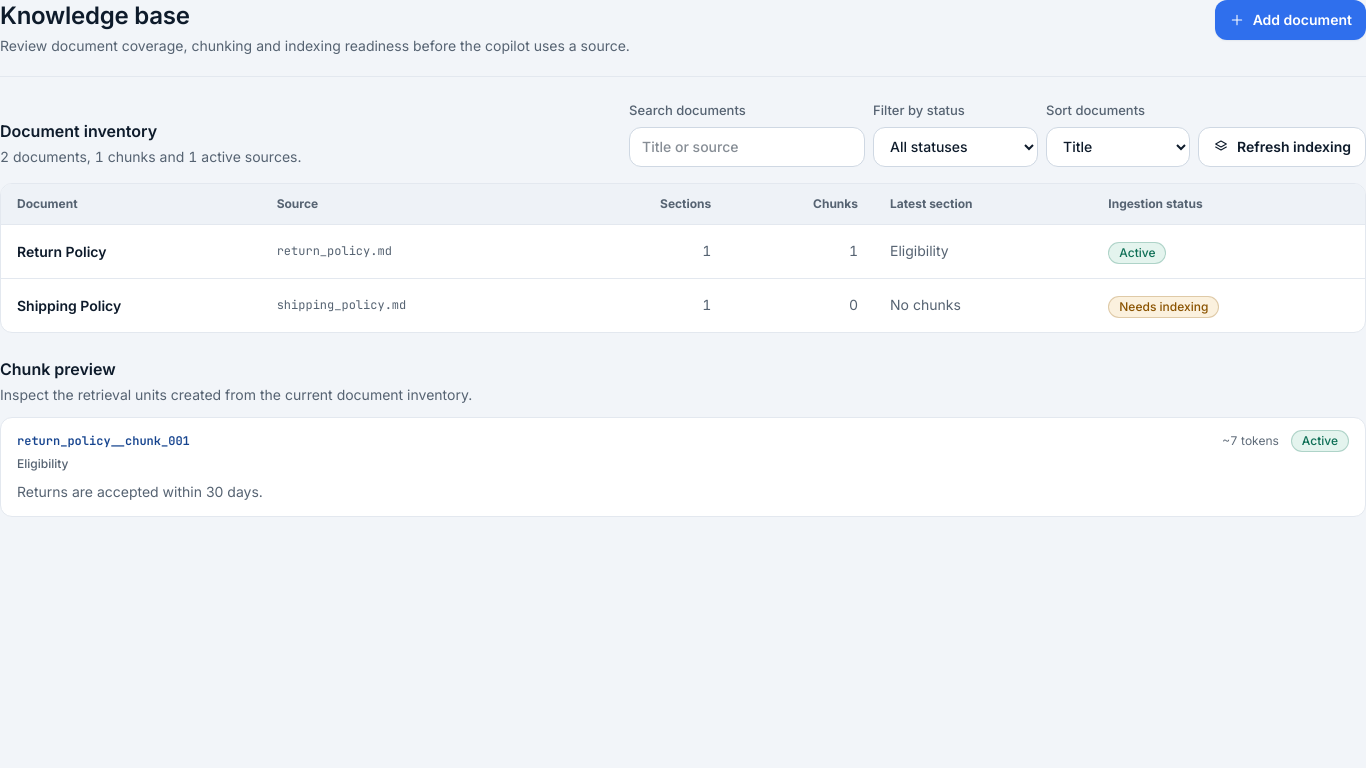
Scenario: KnowledgeWorkspace › opens a document detail panel with ingestion status
Click the button with aria-label "View Return Policy" at (62, 252), box [17,242,106,262]
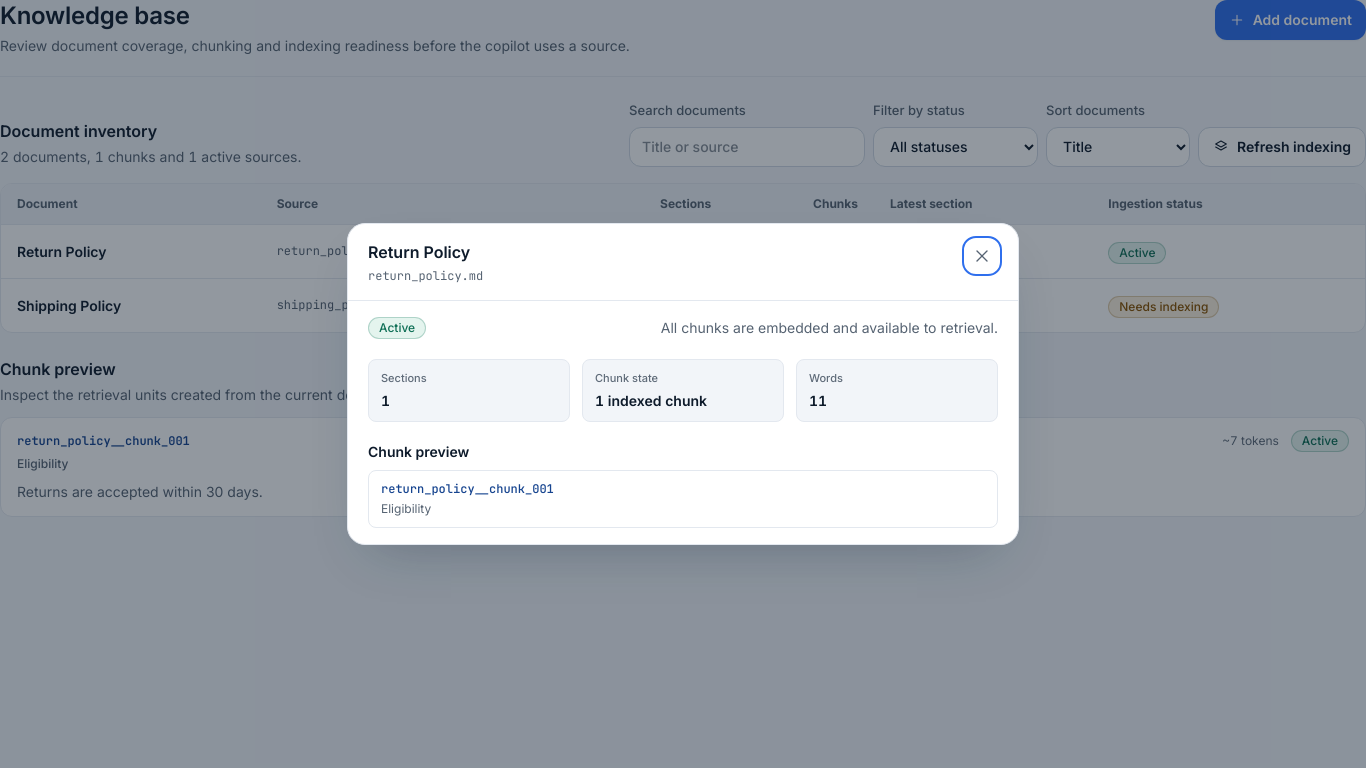
Now the dialog named "Return Policy details" is shown, box [347,223,1019,545]
Now the text "Active" is shown, box [368,317,426,339]
Now the text "1 indexed chunk" is shown, box [595,392,707,409]
